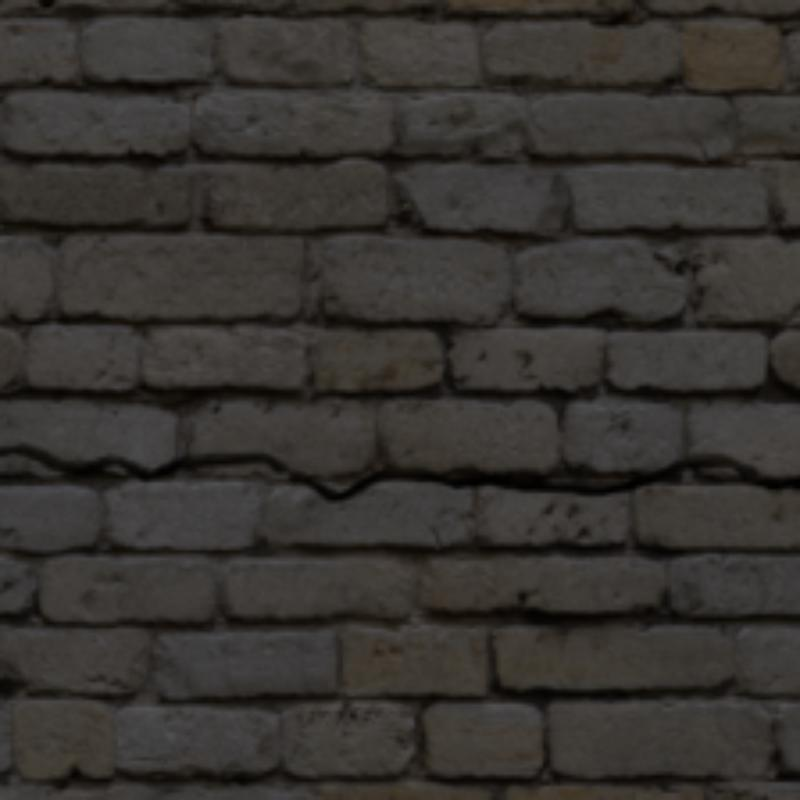pothole: (0, 446, 796, 496)
